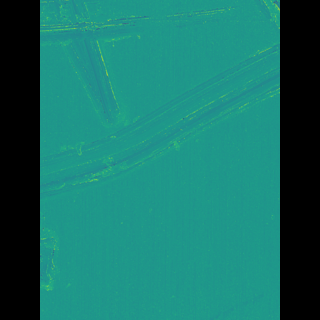Loch: (69, 43, 249, 202), (69, 0, 137, 130), (69, 2, 218, 45), (69, 212, 86, 299)
